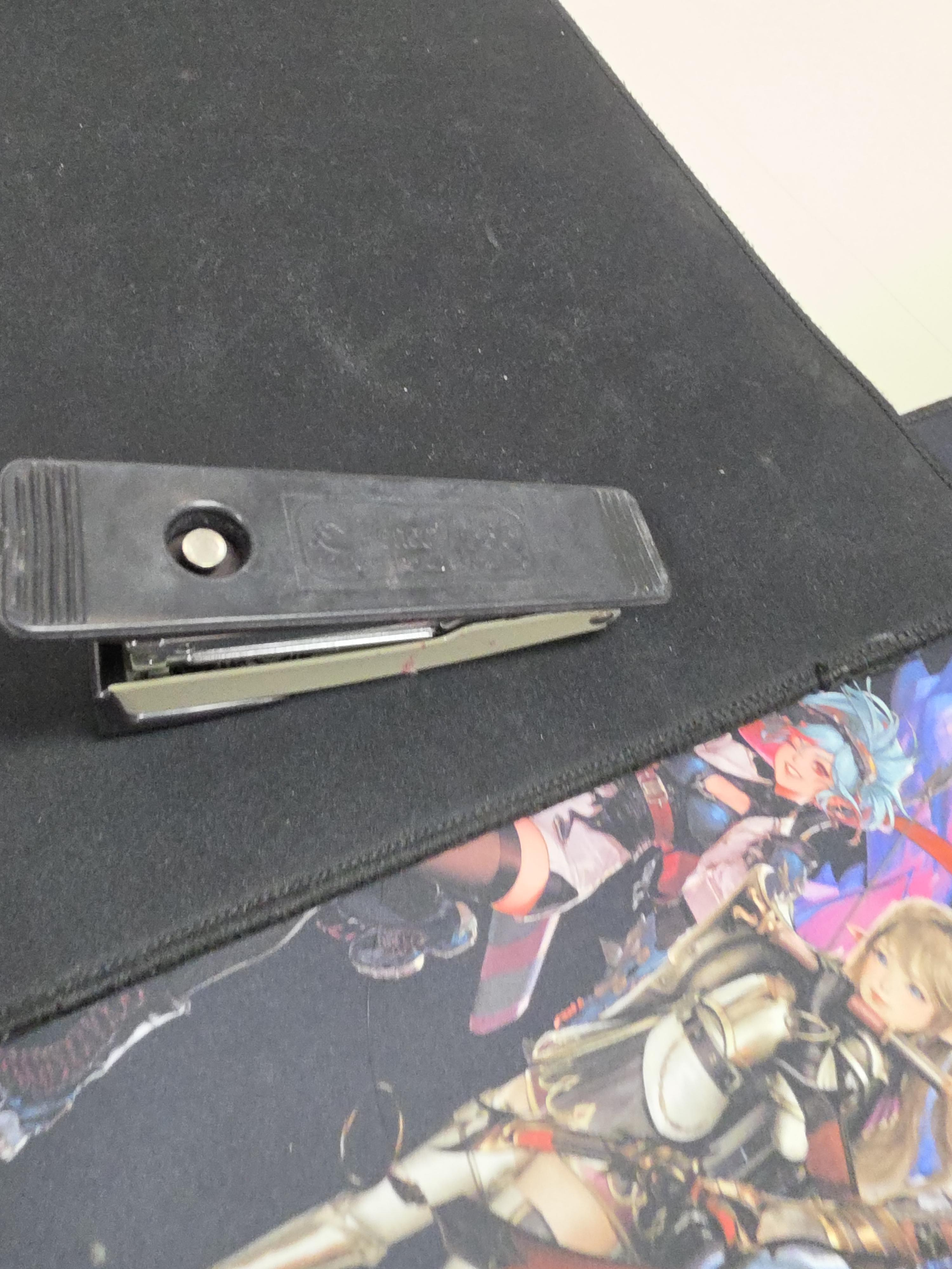stapler: (0, 457, 671, 733)
